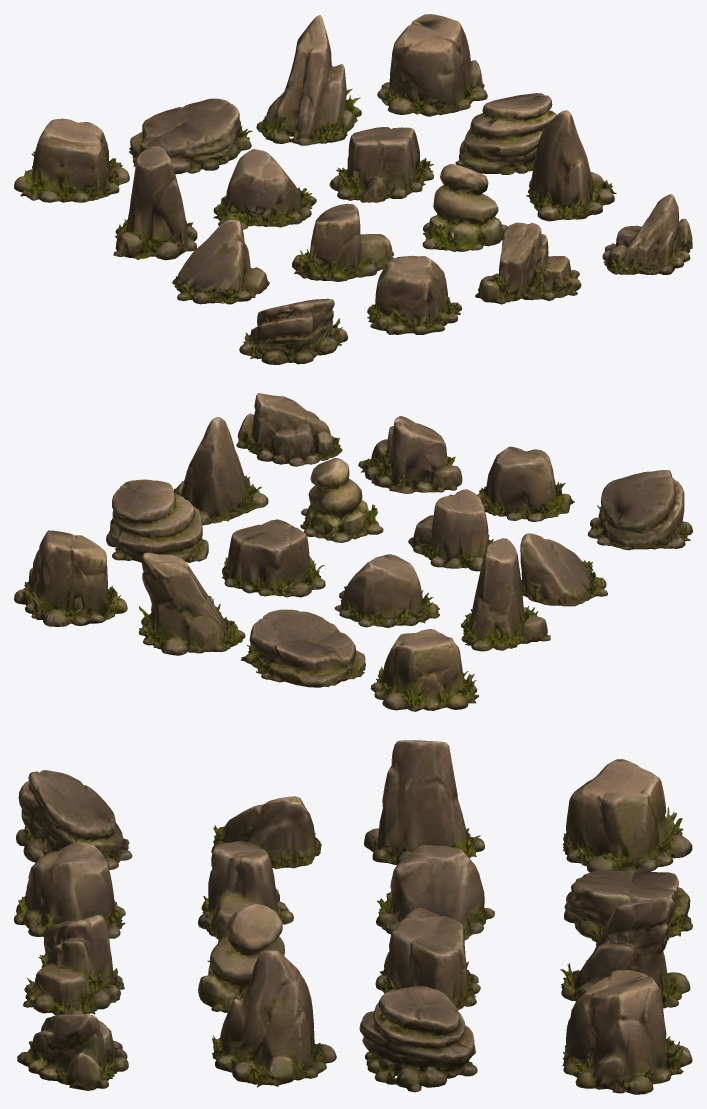
File: Rock_Formations_Colle_2.glb
3 renders of one model, top to bottom at view 1: azimuth 30°, elevation 25°; view 2: azimuth 150°, elevation 25°; view 3: azimuth 270°, elevation 25°, orthographic. The views are drawn at different scales.
Parts seen in each view (by area): view 1: Rock_Formations_Colle_2; view 2: Rock_Formations_Colle_2; view 3: Rock_Formations_Colle_2.
Boxes of the visible parts, x1,y1,x2,y2 form: Rock_Formations_Colle_2: (14,14,692,364); Rock_Formations_Colle_2: (14,393,692,711); Rock_Formations_Colle_2: (14,740,692,1094).
Bounding box in the file's own units: 1.85 × 0.3448 × 1.89.
Materials: 1 (1 with a texture image).
